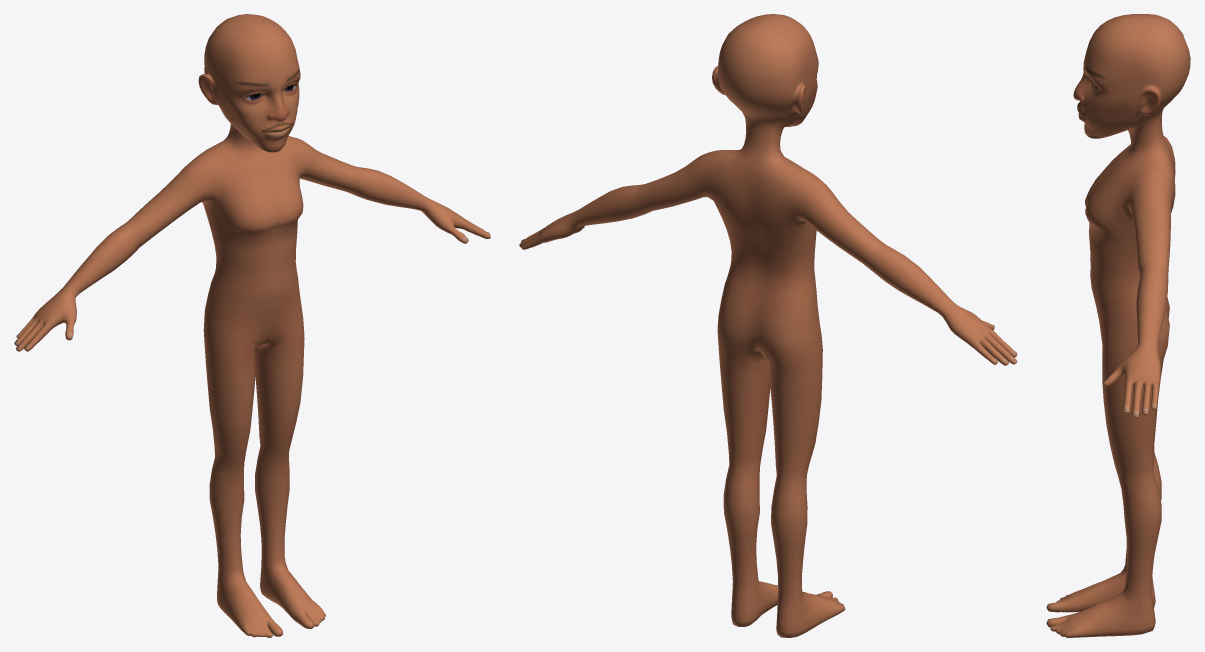
The model's file is frame_0058.glb.
The picture shows the model from 3 angles, left to right: view 1: azimuth 30°, elevation 25°; view 2: azimuth 150°, elevation 25°; view 3: azimuth 270°, elevation 25°; orthographic projection. The views are drawn at different scales.
Visible parts, largest first — view 1: frame_0058_head_geo; view 2: frame_0058_head_geo; view 3: frame_0058_head_geo.
Part boxes in pixels (x1,y1,x2,y2): frame_0058_head_geo: (14,14,490,637); frame_0058_head_geo: (519,14,1017,637); frame_0058_head_geo: (1046,14,1190,637).
Bounding box in the file's own units: 1.28 × 1.5 × 0.3253.
Materials: 3 (3 with a texture image).
